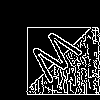W: (25, 25, 90, 92)
